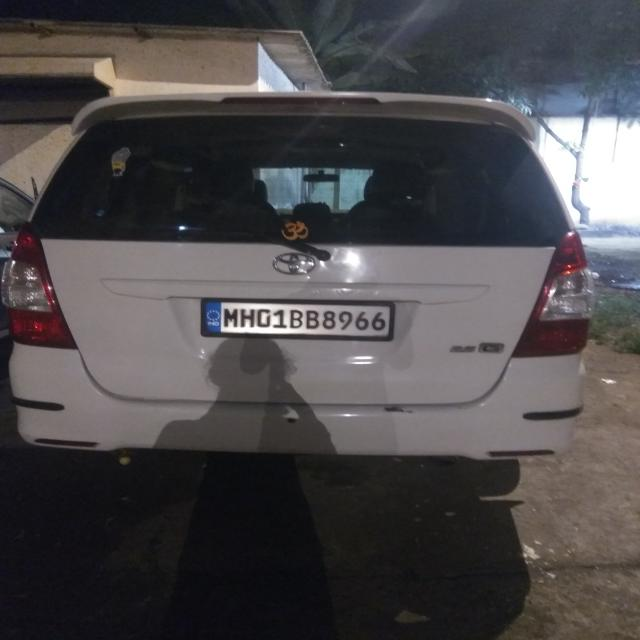Number-Plate: (201, 303, 393, 337)
